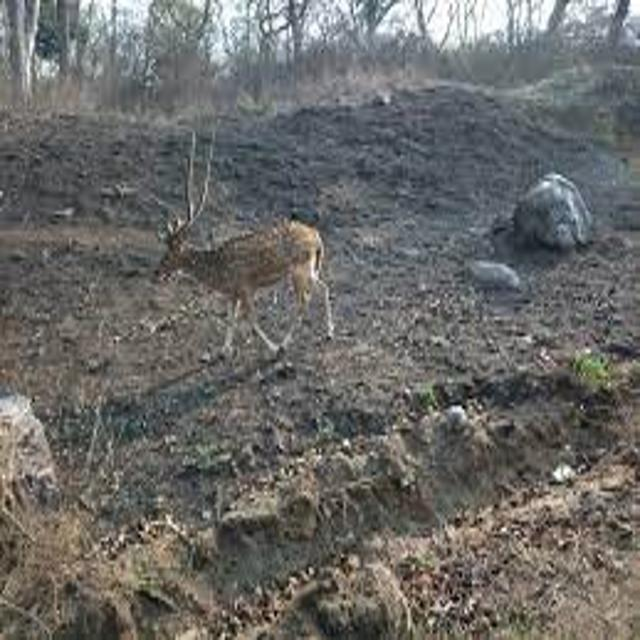Deer: (138, 152, 354, 364)
